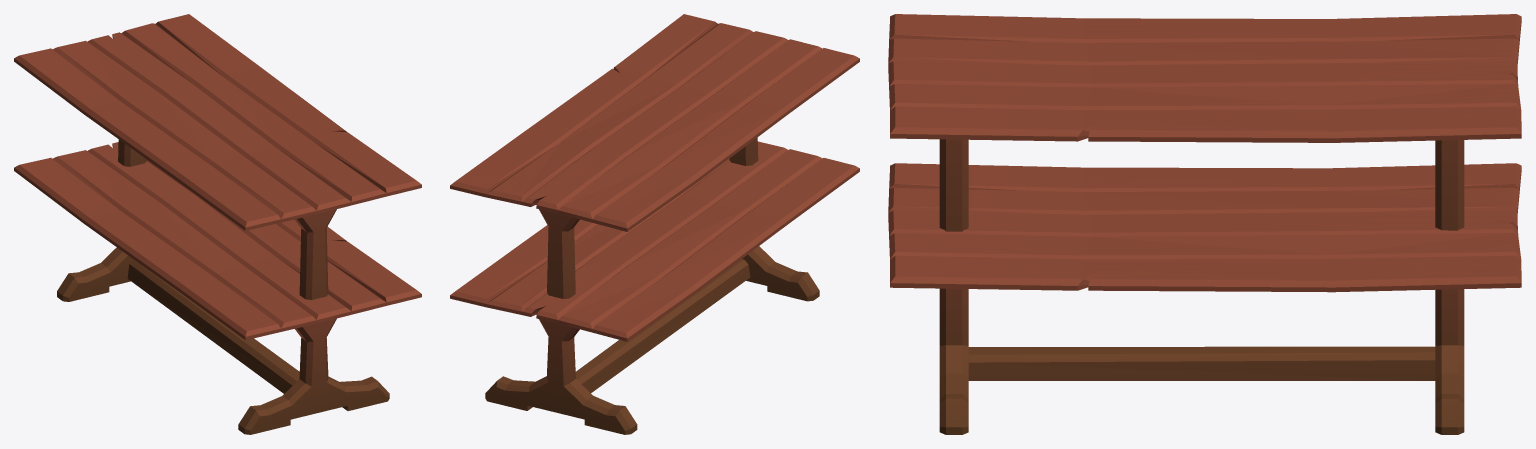
File: Jiazi.fbx
3 views of the same model, side by side, from view 1: azimuth 30°, elevation 25°; view 2: azimuth 150°, elevation 25°; view 3: azimuth 270°, elevation 25° (orthographic). The views are drawn at different scales.
Parts seen in each view (by area): view 1: WoodenTable2.001; view 2: WoodenTable2.001; view 3: WoodenTable2.001.
Boxes of the visible parts, x1,y1,x2,y2 form: WoodenTable2.001: [14, 14, 421, 434]; WoodenTable2.001: [450, 14, 859, 434]; WoodenTable2.001: [888, 14, 1521, 434].
Size of the model in its own units: 25.24 by 31.13 by 56.98.
